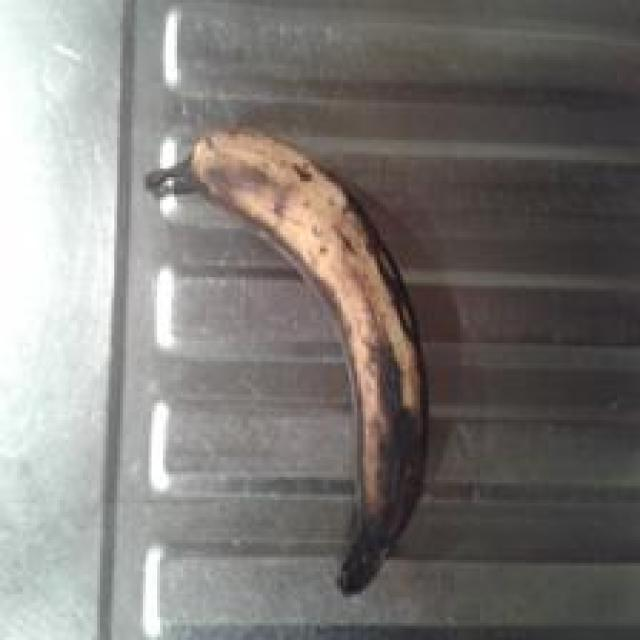Rotten_Banana: (157, 106, 448, 524)
